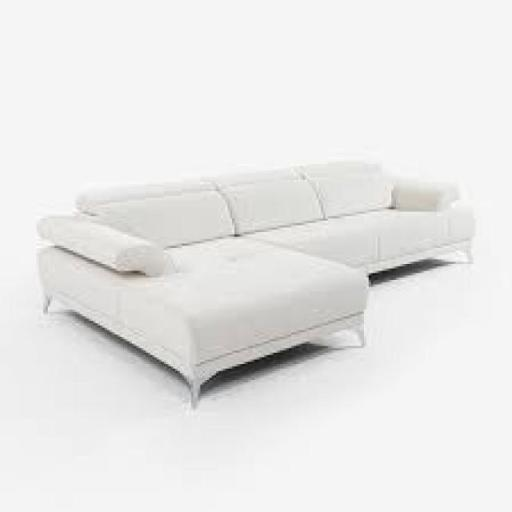sofa: (50, 144, 488, 382)
